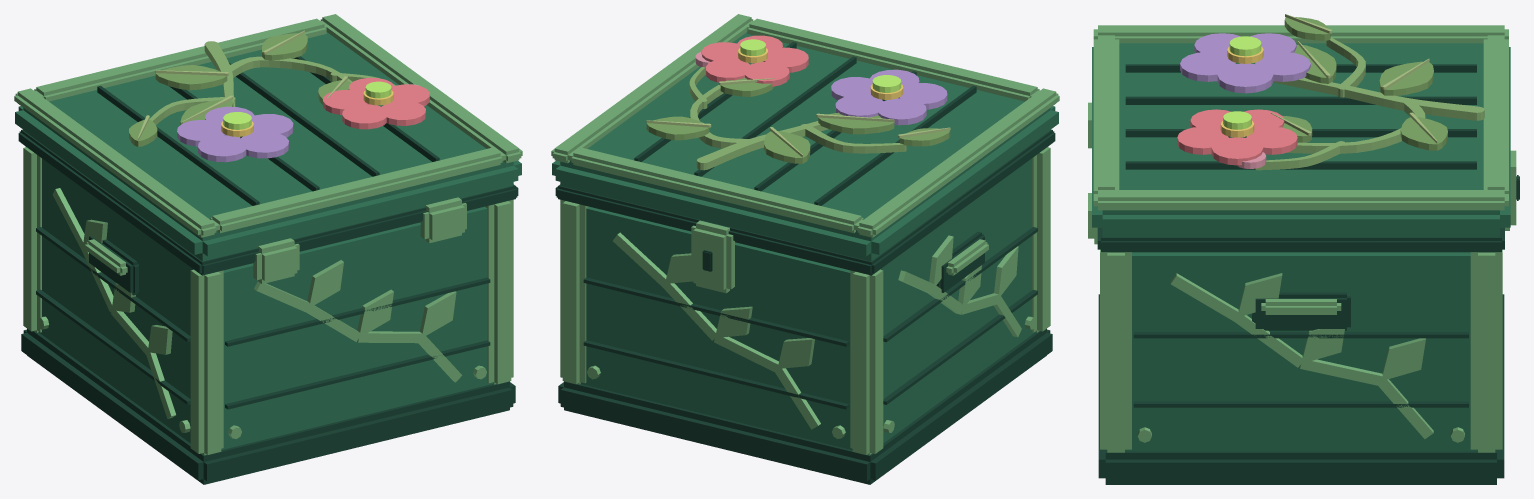
Rendered from crate_jardim.fbx.
3 renders of one model, left to right at view 1: azimuth 30°, elevation 25°; view 2: azimuth 150°, elevation 25°; view 3: azimuth 270°, elevation 25°, orthographic. The views are drawn at different scales.
Visible parts, largest first — view 1: crate_jardim_caixa; view 2: crate_jardim_caixa; view 3: crate_jardim_caixa, crate_jardim_anim_semente_01_neon, crate_jardim_anim_semente_02_neon.
Part boxes in pixels (box(x1,y1,x2,y2)): crate_jardim_caixa: box(14, 14, 522, 484); crate_jardim_caixa: box(551, 14, 1059, 484); crate_jardim_caixa: box(1088, 14, 1519, 484); crate_jardim_anim_semente_01_neon: box(1229, 36, 1261, 56); crate_jardim_anim_semente_02_neon: box(1223, 111, 1251, 129).
Bounding box in the file's own units: 2.68 × 2.27 × 2.7.
1 material, 1 textured.
